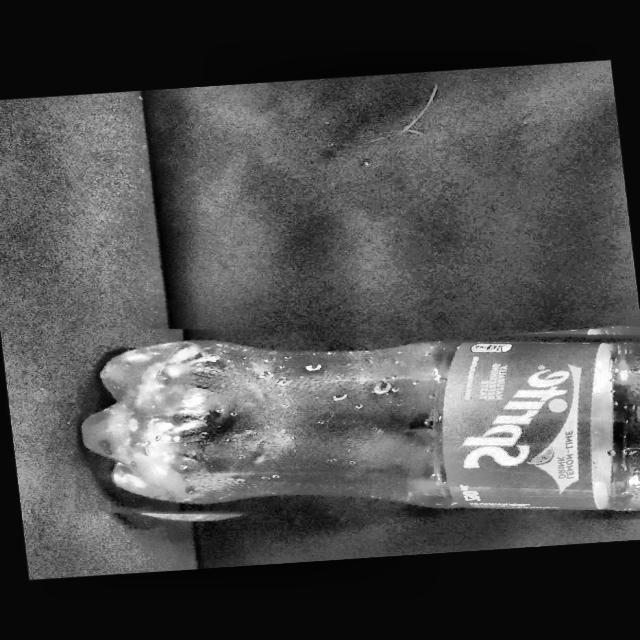Plastic-Bottle: (59, 304, 640, 552)
